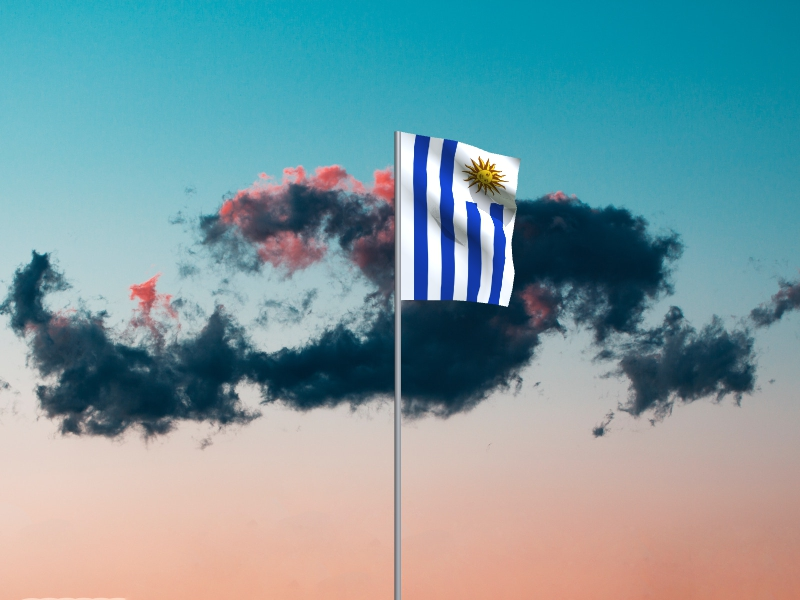uy: (401, 132, 521, 308)
